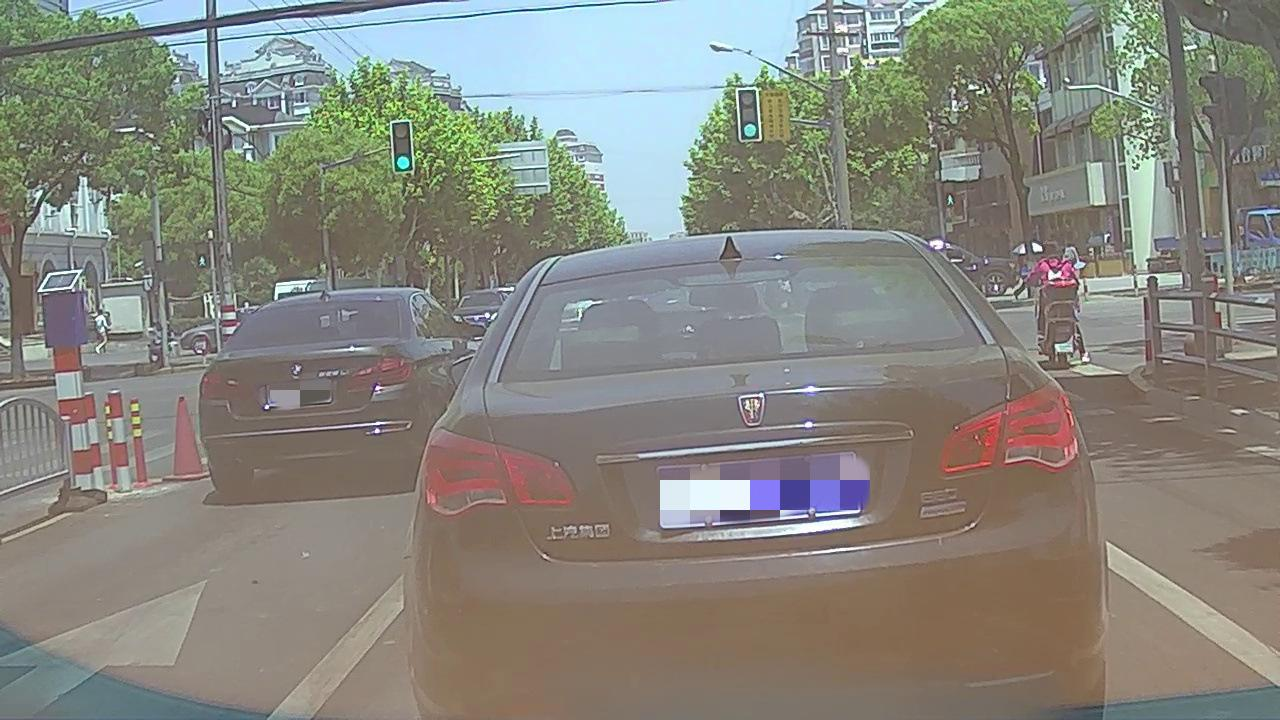traffic_light: (737, 89, 761, 142), (392, 121, 412, 171)
